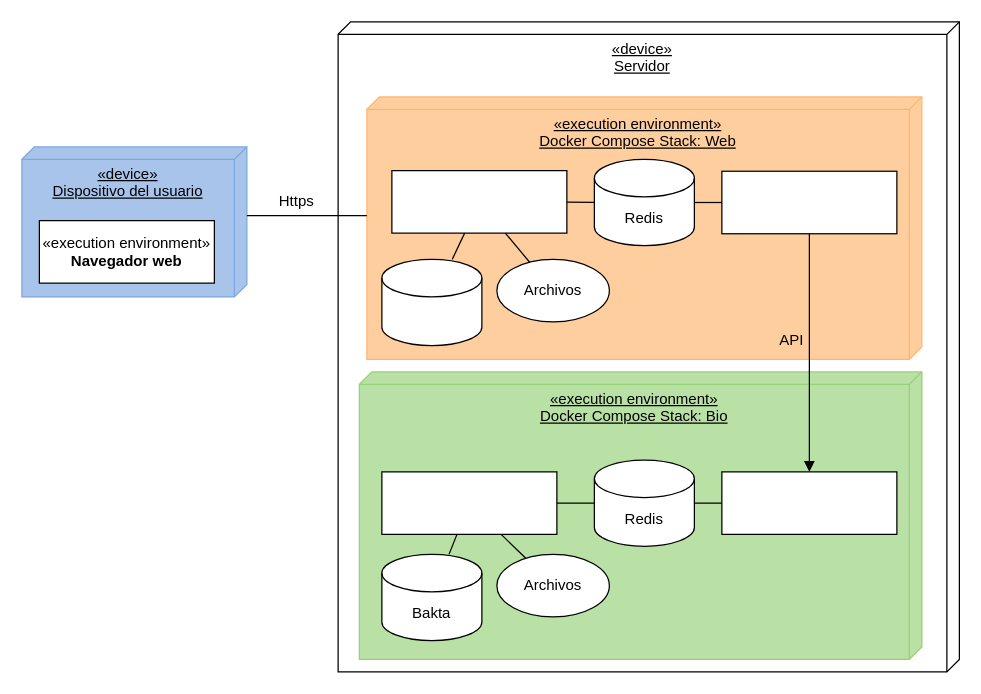
This 981x694 diagram has some shape labels left out. Each missing label, with the centre of its shape:
"PostgreSQL" belongs at [431,302].
"Sistema bioinformático" belongs at [809,502].
"Sistema ejecución asíncrona bio" belongs at [469,502].
"Sistema ejecución asíncrona web" belongs at [809,202].
"Sistema web" belongs at [479,201].
